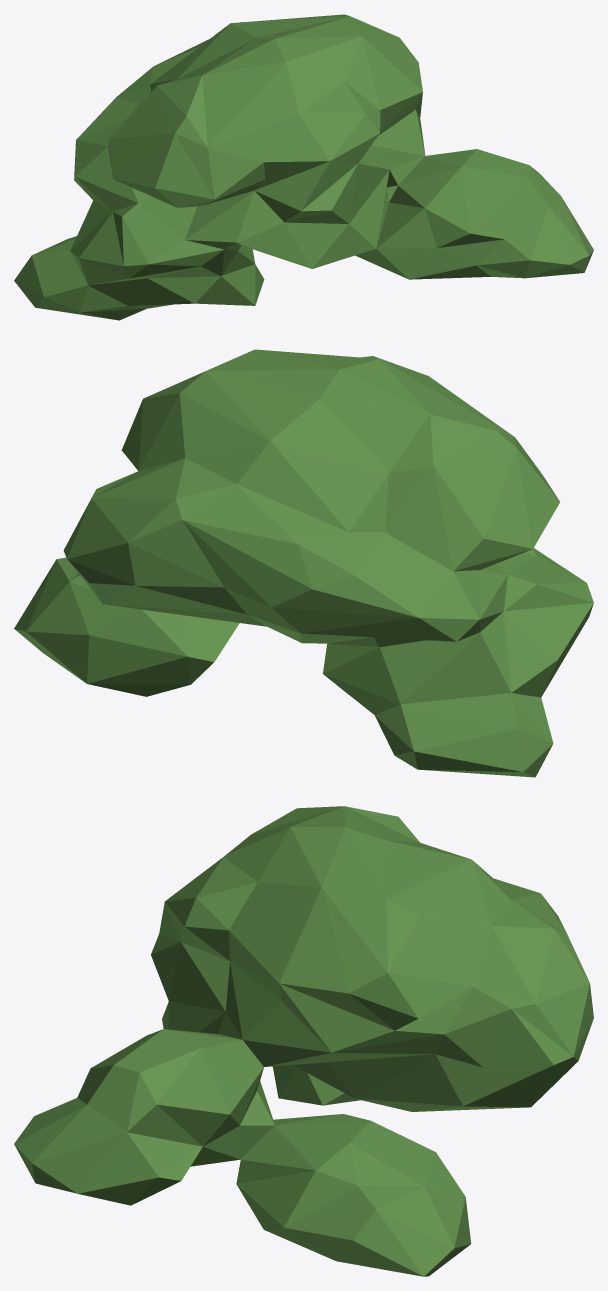
Rendered from tree1leaves.fbx.
3 views of the same model, one above another, from view 1: azimuth 30°, elevation 25°; view 2: azimuth 150°, elevation 25°; view 3: azimuth 270°, elevation 25° (orthographic). The views are drawn at different scales.
Parts seen in each view (by area): view 1: polySurface810; view 2: polySurface810; view 3: polySurface810.
Part boxes in pixels (bbox=[...]): polySurface810: bbox=[14, 14, 593, 320]; polySurface810: bbox=[14, 349, 593, 777]; polySurface810: bbox=[14, 806, 593, 1276].
Bounding box in the file's own units: 3.89 × 2.28 × 3.55.
